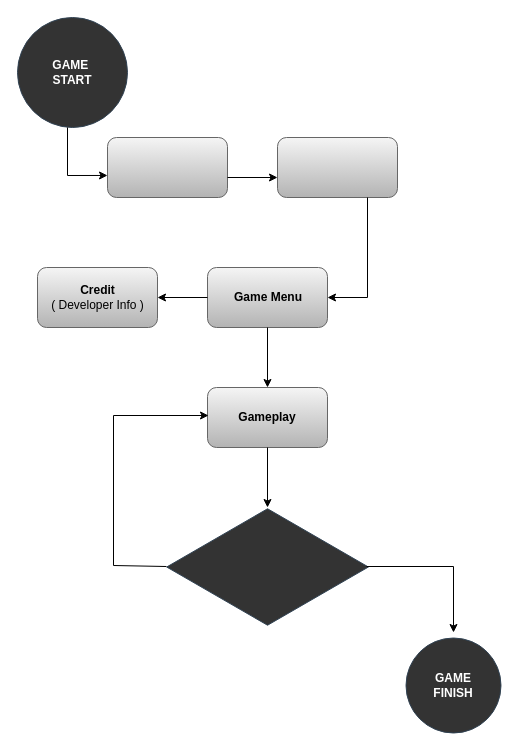
The diagram is 519 pixels wide and 751 high, and some of its shapes have lost their labels. Each missing label, with the box of its shape:
Developer Spalash Sceen: (276, 136, 398, 198)
Publisher Spalash Screen: (106, 136, 228, 198)
Retry/Quit Win/Lose Condition: (166, 506, 368, 628)
